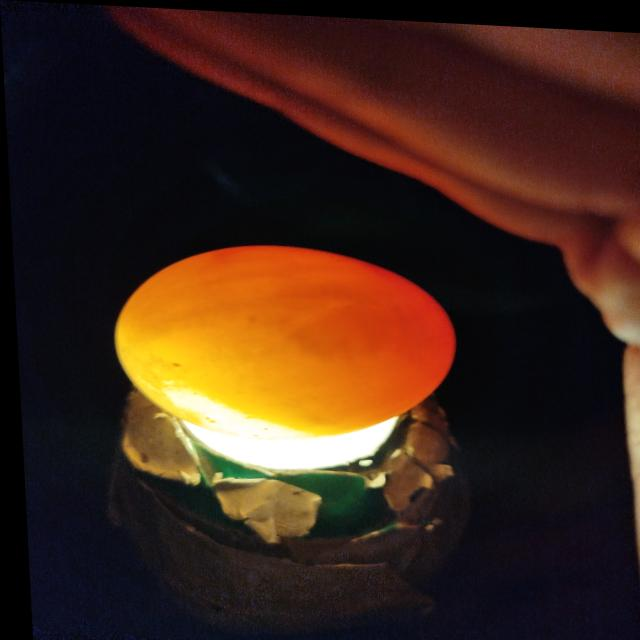Gema Quebrada: (282, 247, 449, 422)
